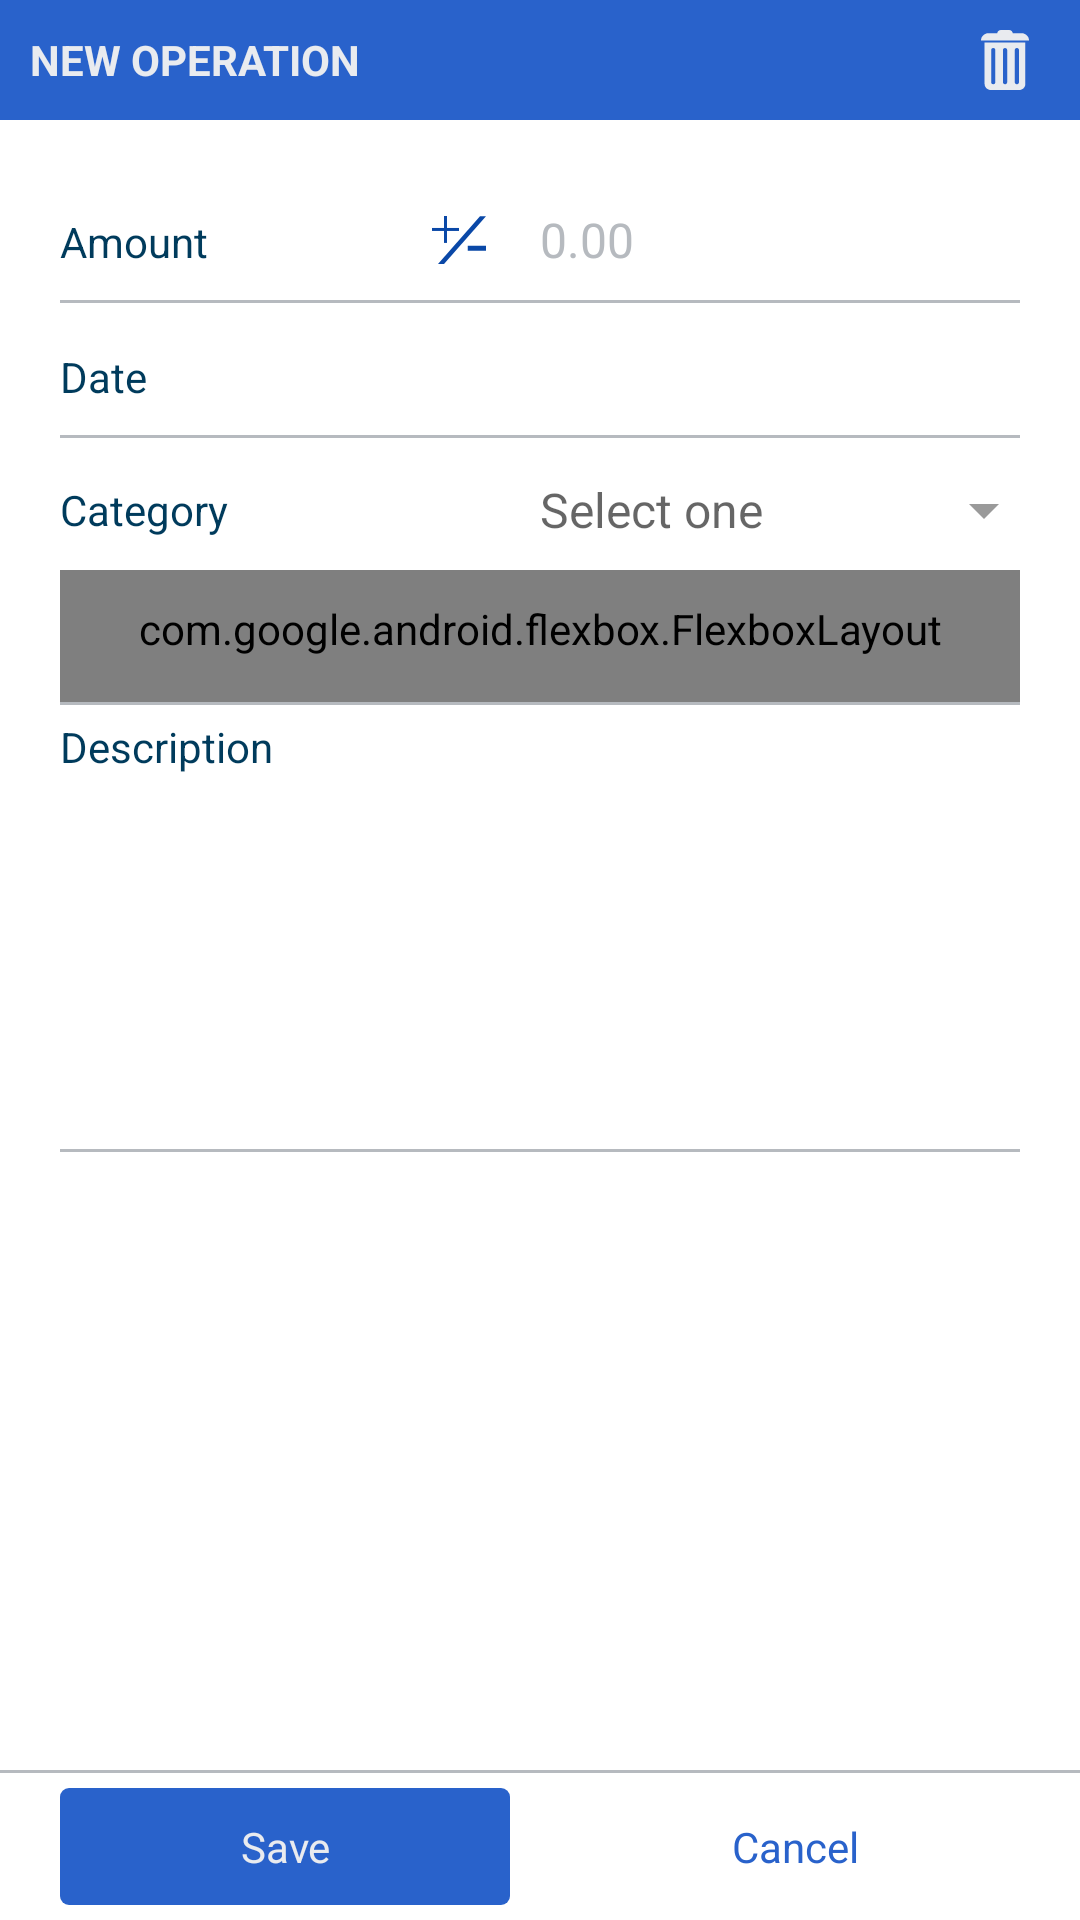

Named icons in this screenshot (1080x1920) and their centers, point (x, y):
arrow drop down: point (984, 511)
plan plusminus: point (459, 240)
